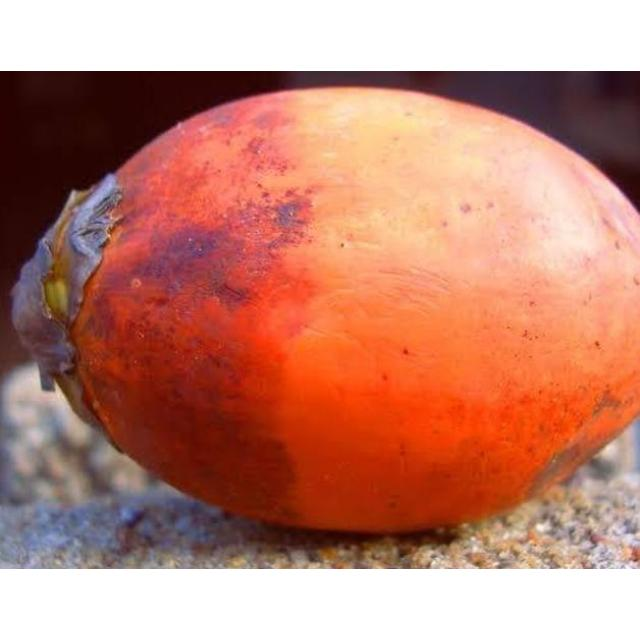good: (8, 86, 639, 538)
